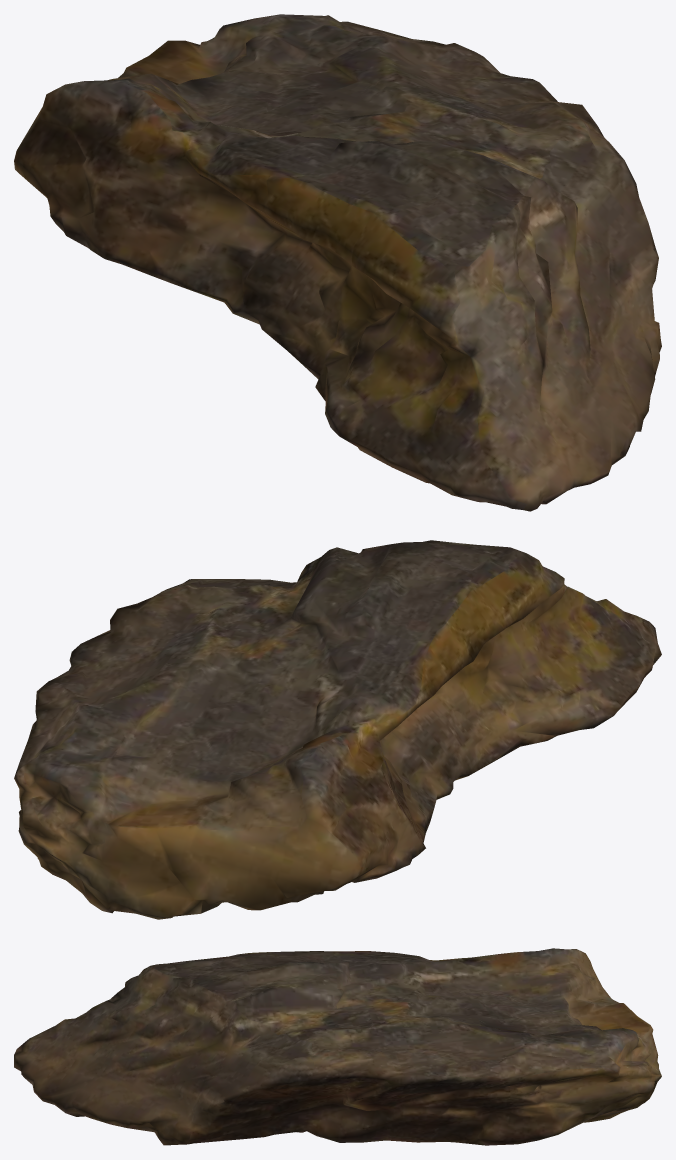
The model's file is rock_09.glb.
3 views of the same model, one above another, from view 1: azimuth 30°, elevation 25°; view 2: azimuth 150°, elevation 25°; view 3: azimuth 270°, elevation 25° (orthographic). The views are drawn at different scales.
Parts seen in each view (by area): view 1: rock_09_LOD0; view 2: rock_09_LOD0; view 3: rock_09_LOD0.
Boxes of the visible parts, x1,y1,x2,y2 form: rock_09_LOD0: [14, 14, 661, 511]; rock_09_LOD0: [14, 540, 661, 919]; rock_09_LOD0: [14, 948, 661, 1145].
Bounding box in the file's own units: 0.0739 × 0.0328 × 0.1446.
Materials: 1 (1 with a texture image).
